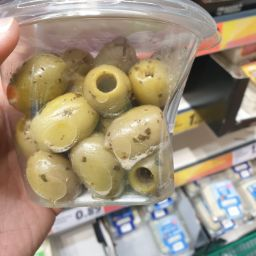Olives: (5, 40, 164, 196), (94, 104, 166, 205), (15, 113, 76, 210), (73, 51, 133, 117), (9, 57, 72, 108)
